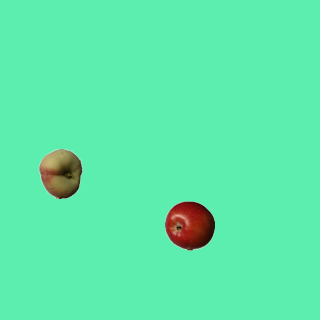Apple Braeburn: (164, 200, 214, 250)
Peach Flat: (35, 148, 85, 198)
